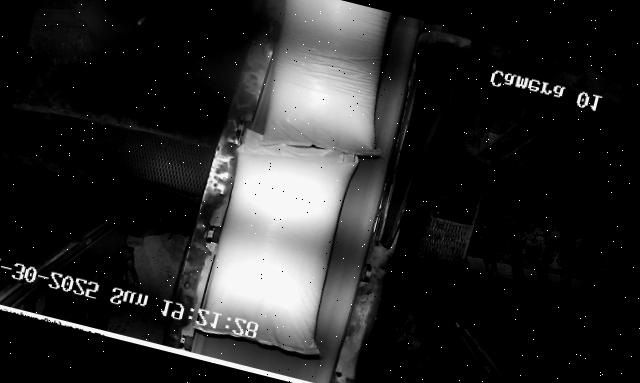bag: (195, 126, 368, 358), (246, 0, 412, 171)
